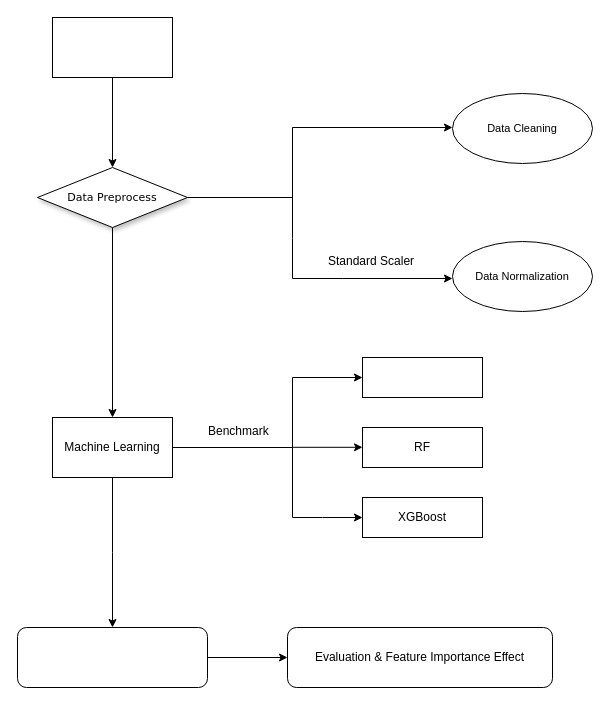
Image size: 610x705. Some labels were removed from this diagram. Each missing label, with the centre of its shape:
ANN: the point at 422,377
Original DfT Dataset: the point at 112,47
Performance Comparison: the point at 112,657
